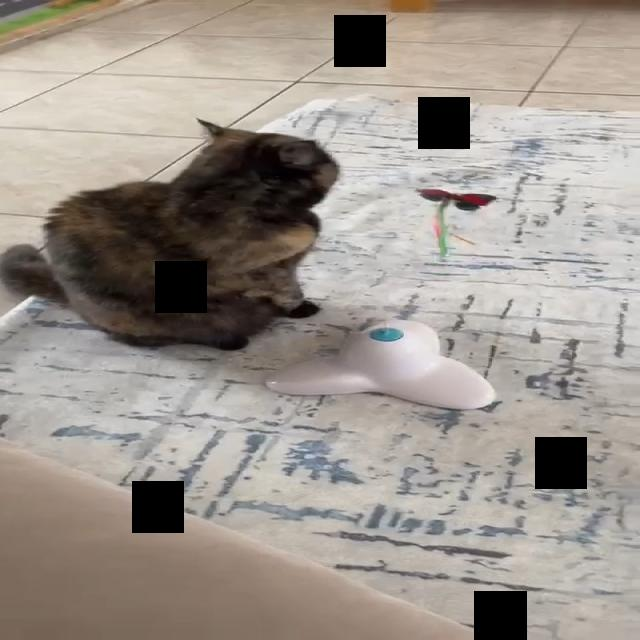authorized: (0, 116, 340, 351)
